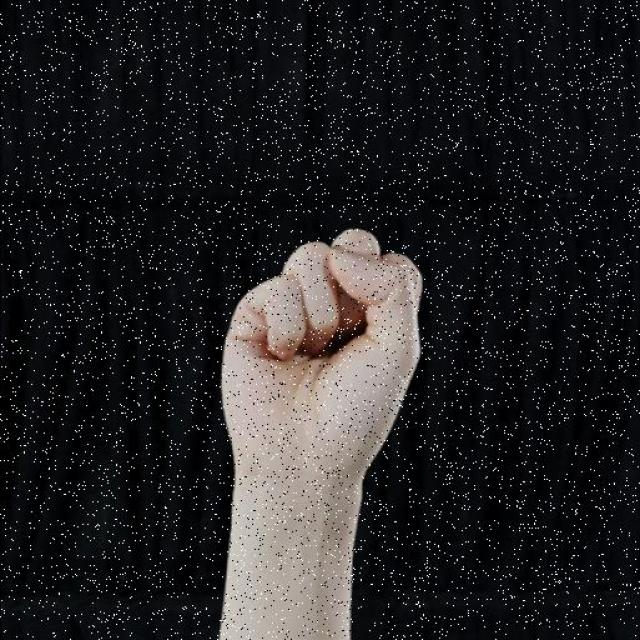S: (213, 224, 428, 482)
